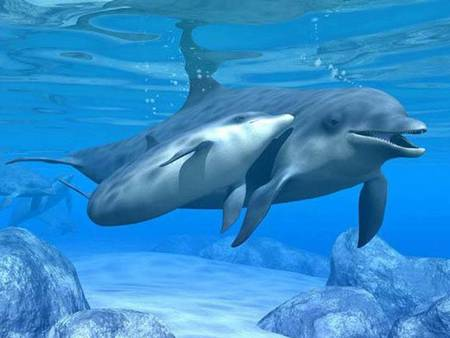dolphin: (32, 64, 442, 254), (73, 109, 298, 226)
